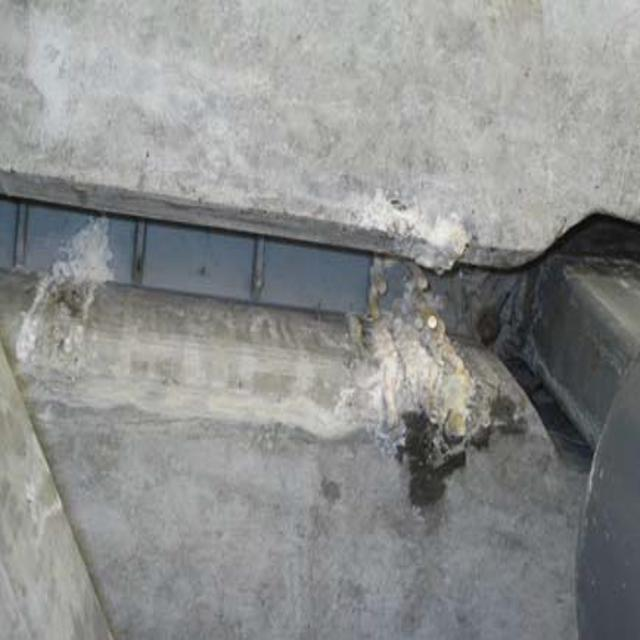freelime: (364, 183, 487, 488), (30, 186, 113, 384)
